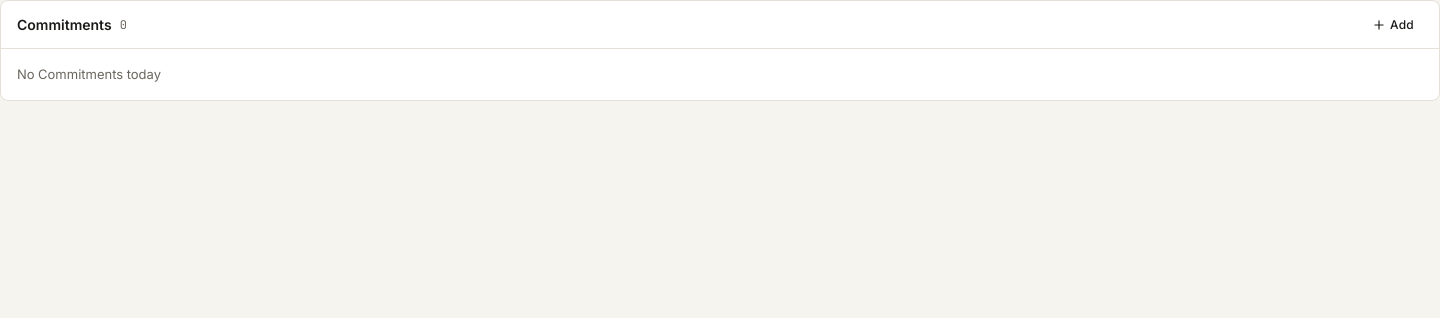
CommitmentsPanel › uses 24-hour time fields that normalise typed times on blur
This screenshot has width=1440, height=318.
Later steps or results of the test are not shown.
Click the button "Add": (1393,24) [1363,10,1423,38]
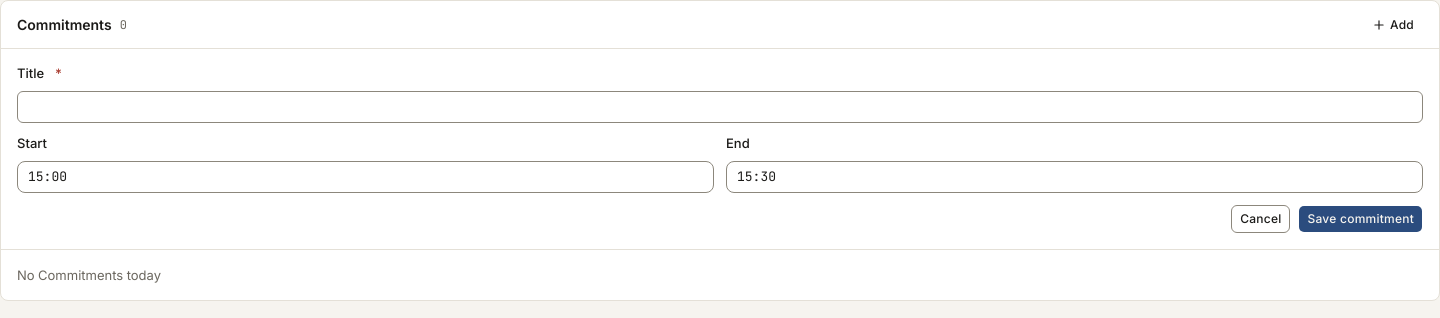
In the field labelled "Title *": (720,107) [17,91,1423,123], type "Review"
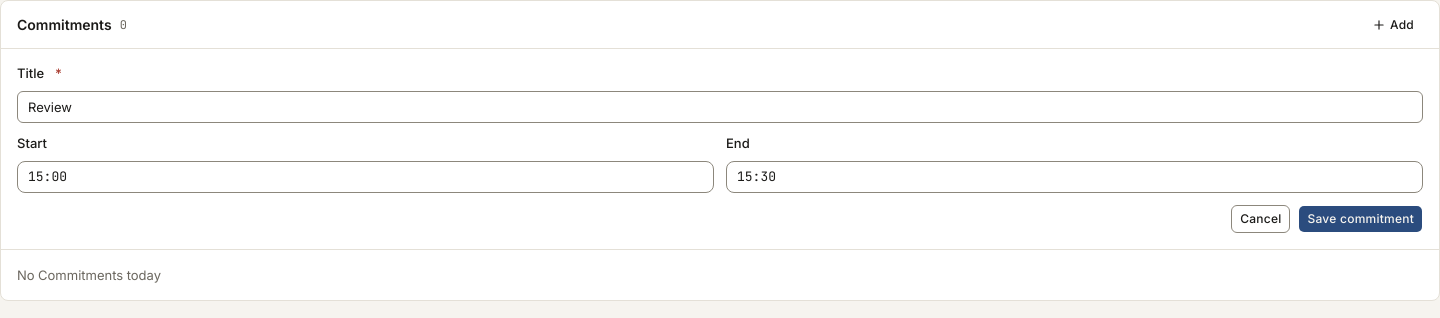
Replace the text in the field labelled "Start" with "930": (366,177) [17,161,714,193]
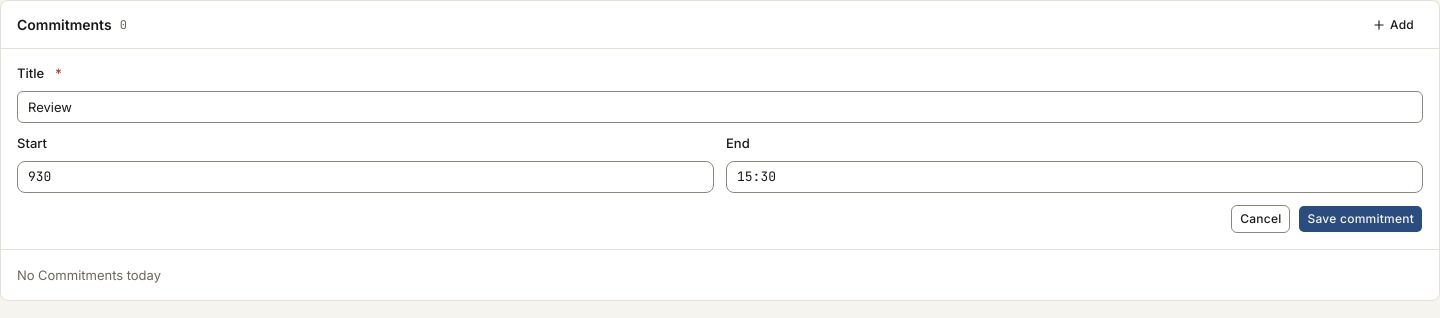
Leave the field labelled "Start", box [17,161,714,193]
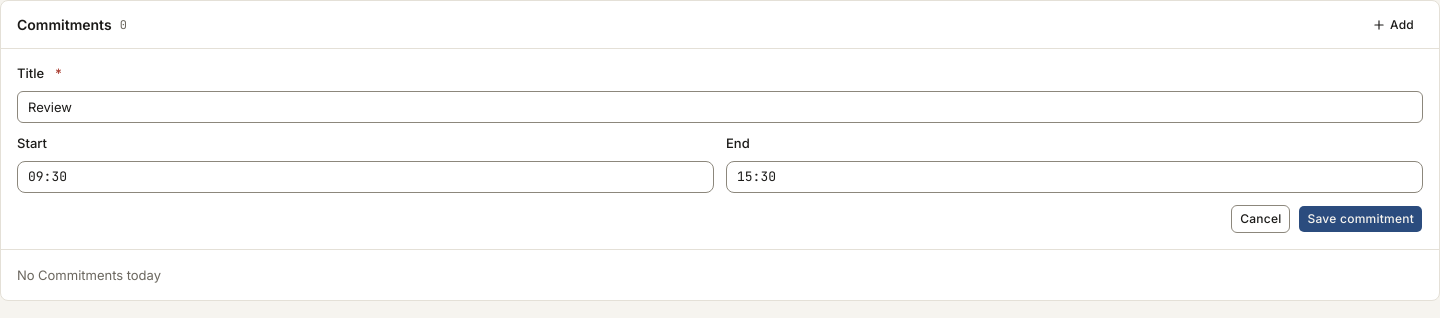
Expected: the field labelled "Start" holds "09:30", [17,161,714,193]
